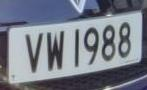1: (70, 24, 85, 74)
8: (100, 19, 119, 68), (116, 17, 134, 65)
9: (82, 22, 102, 72)
V: (22, 28, 46, 78)
W: (44, 26, 67, 78)
